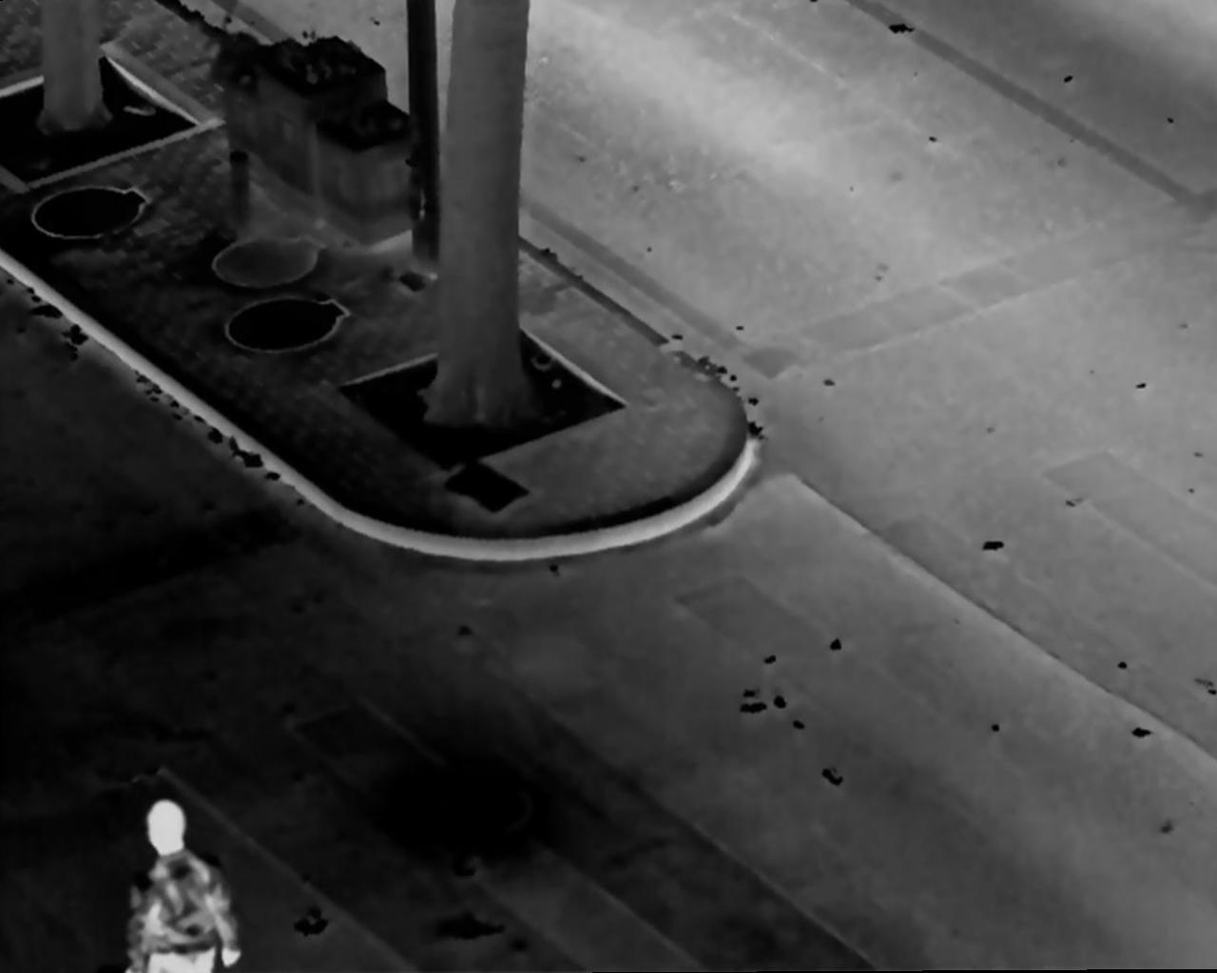person: (103, 799, 251, 968)
